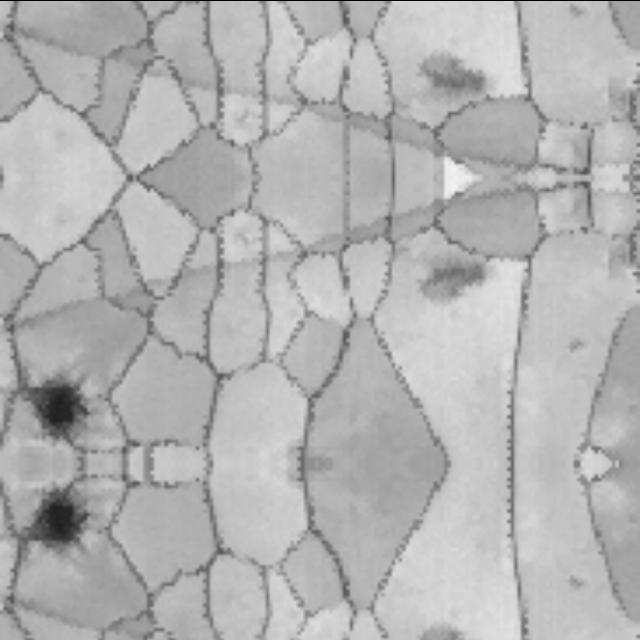good_void: (410, 43, 498, 108), (410, 247, 498, 311), (6, 375, 93, 438), (6, 490, 93, 553), (410, 617, 494, 640), (561, 330, 597, 363), (561, 565, 597, 598), (561, 0, 597, 24)
